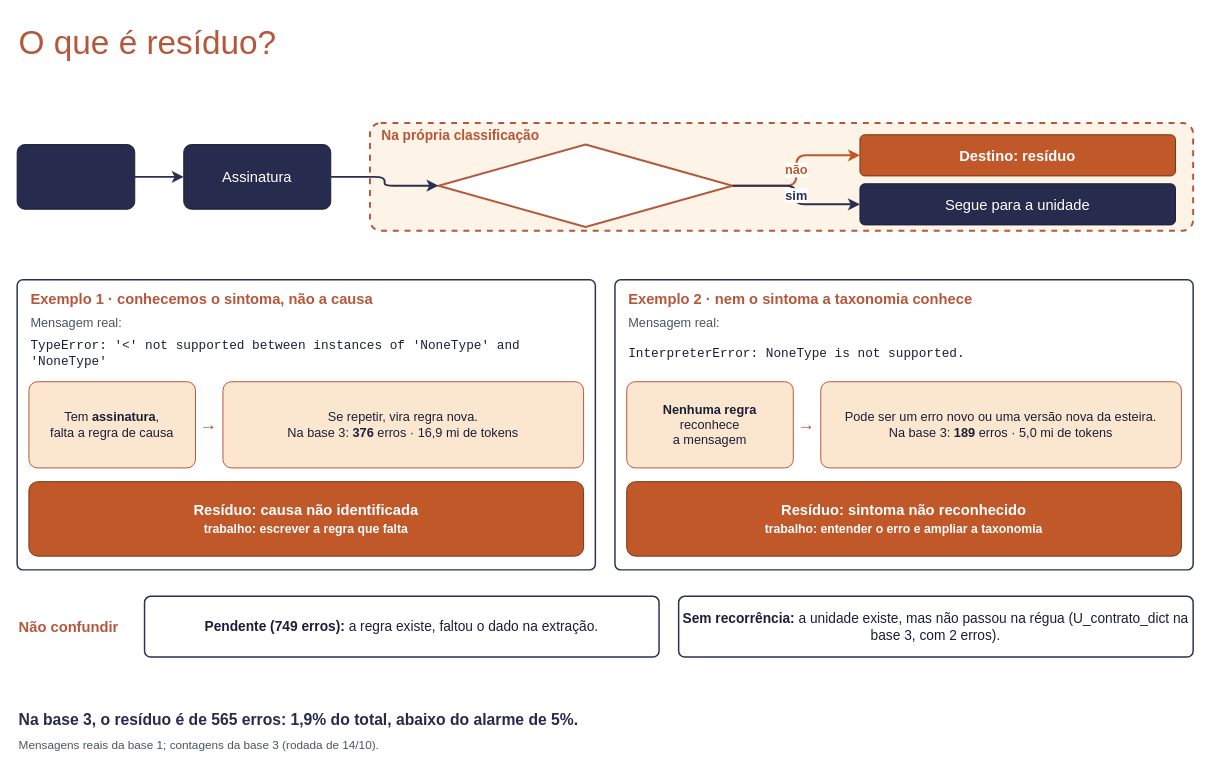
The diagram is 1211 pixels wide and 773 high, and some of its shapes have lost their labels. Here are the shapes that lost their labels. From the top down, the box of each, then its label:
(16, 144, 135, 209): Erro
(437, 143, 733, 227): Alguma regra explica o erro?
